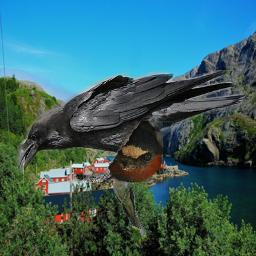Crow: (17, 70, 246, 183)
Cuckoo: (106, 170, 147, 248)
Swallow: (108, 121, 163, 183)
